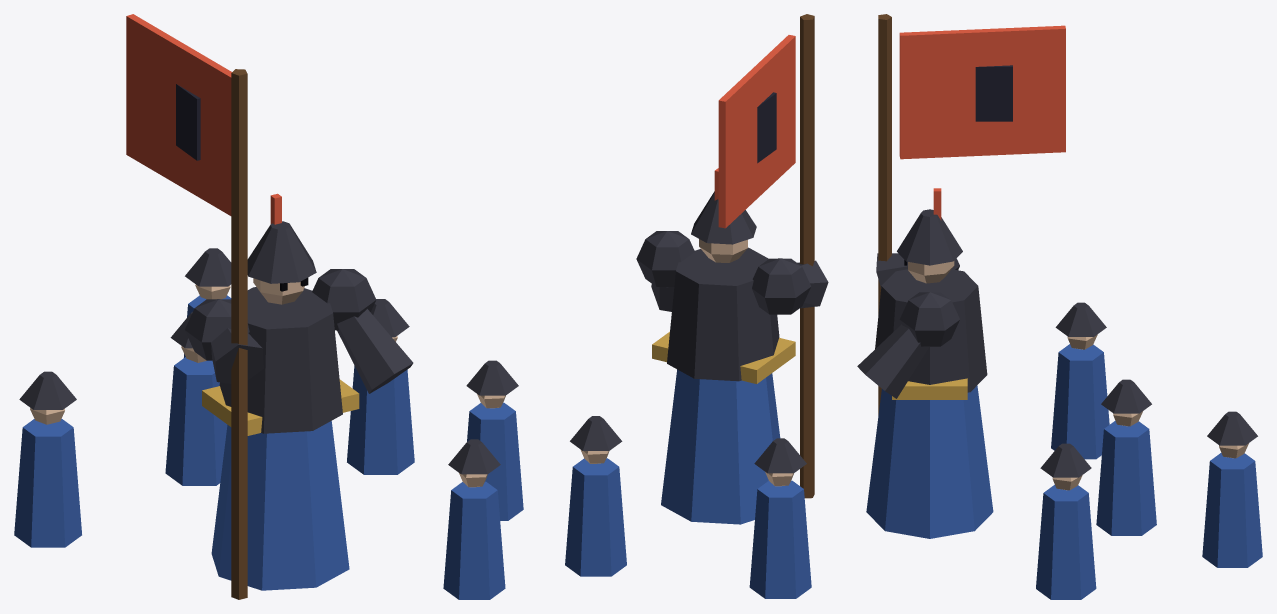
File: boss_b05_daedol.glb
The picture shows the model from 3 angles, left to right: view 1: azimuth 30°, elevation 25°; view 2: azimuth 150°, elevation 25°; view 3: azimuth 270°, elevation 25°; orthographic projection. The views are drawn at different scales.
Visible parts, largest first — view 1: boss_b05_daedol; view 2: boss_b05_daedol; view 3: boss_b05_daedol.
Part boxes in pixels (<box>): boss_b05_daedol: <box>14,14,414,599</box>; boss_b05_daedol: <box>443,14,828,599</box>; boss_b05_daedol: <box>857,14,1262,599</box>.
Bounding box in the file's own units: 2.55 × 3.4 × 2.68.
